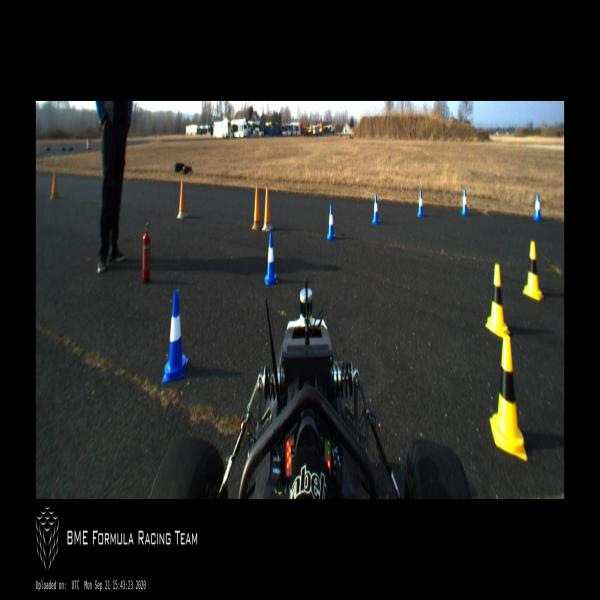blue_cone: (161, 285, 189, 384), (264, 231, 278, 286), (327, 203, 335, 241), (372, 193, 380, 225), (417, 190, 425, 219), (534, 193, 542, 222), (460, 188, 468, 216)
unknown_cone: (262, 187, 273, 232), (251, 184, 261, 231), (177, 180, 187, 220), (50, 169, 58, 198)
yellow_cone: (488, 333, 528, 463), (485, 262, 510, 340), (522, 239, 544, 303)
